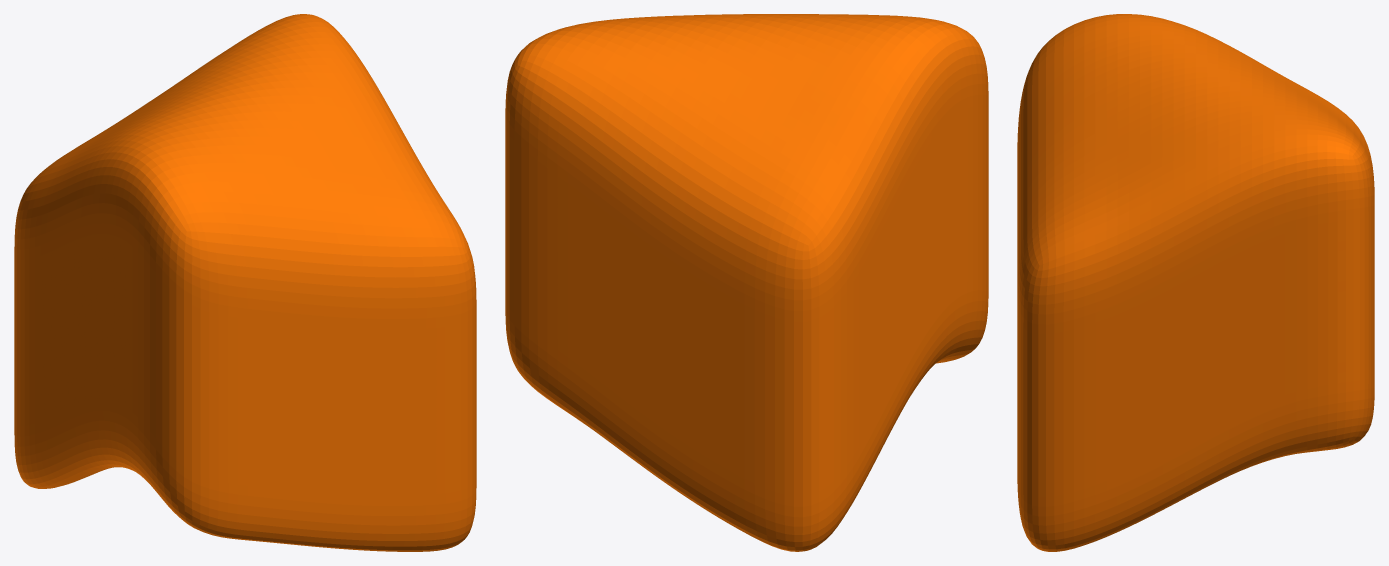
3 renders of one model, left to right at view 1: azimuth 30°, elevation 25°; view 2: azimuth 150°, elevation 25°; view 3: azimuth 270°, elevation 25°, orthographic. The views are drawn at different scales.
Parts seen in each view (by area): view 1: smooth_1_base.013; view 2: smooth_1_base.013; view 3: smooth_1_base.013.
Part boxes in pixels (x1,y1,x2,y2): smooth_1_base.013: [14, 14, 476, 551]; smooth_1_base.013: [505, 14, 988, 551]; smooth_1_base.013: [1017, 14, 1374, 551].
Bounding box in the file's own units: 60 × 77.15 × 60.
